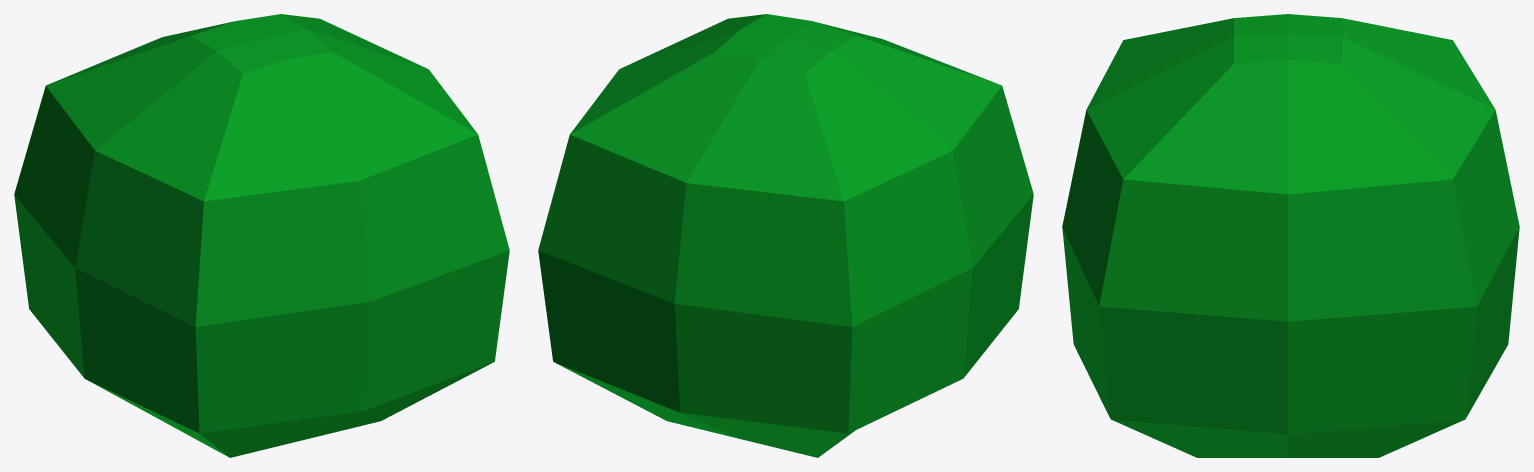
Rendered from bush.fbx.
3 views of the same model, side by side, from view 1: azimuth 30°, elevation 25°; view 2: azimuth 150°, elevation 25°; view 3: azimuth 270°, elevation 25° (orthographic). The views are drawn at different scales.
Visible parts, largest first — view 1: Cube; view 2: Cube; view 3: Cube.
Boxes of the visible parts, x1,y1,x2,y2 form: Cube: (14, 14, 509, 457); Cube: (538, 14, 1033, 457); Cube: (1062, 14, 1519, 457).
Bounding box in the file's own units: 213 × 201 × 217.
